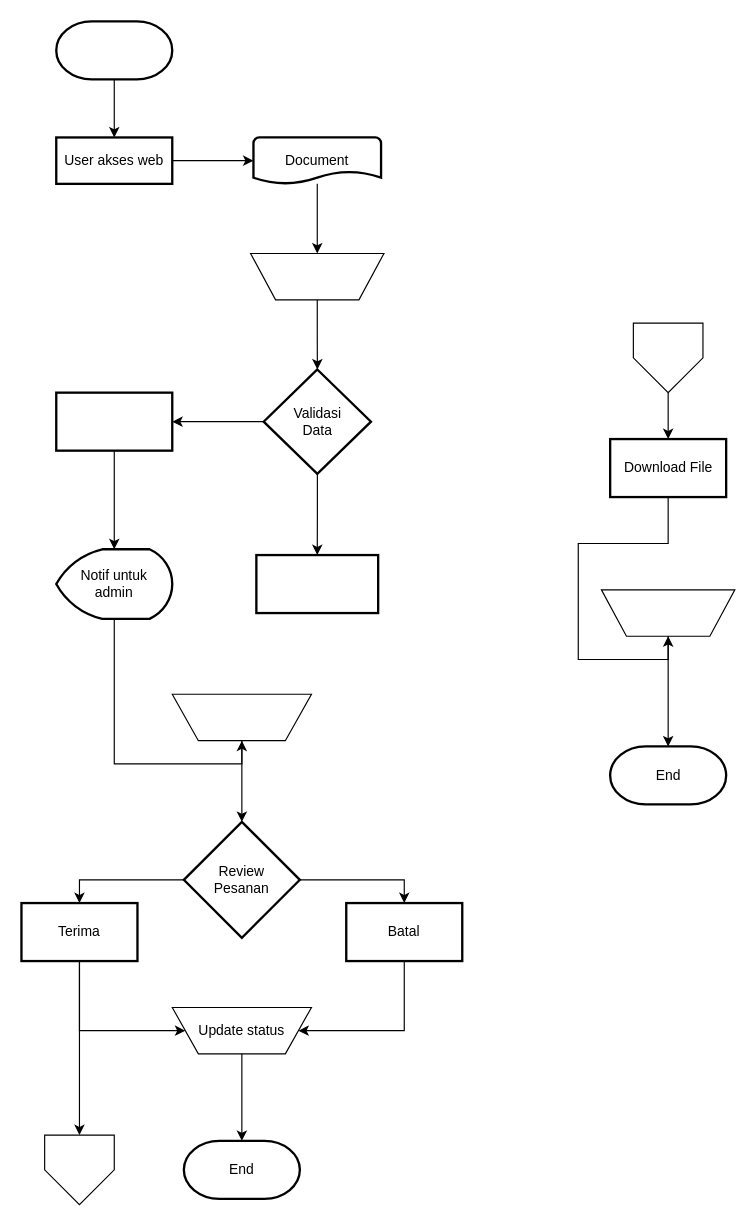
This 755x1225 diagram has some shape labels left out. Here are the shapes that lost their labels. From the top down, the centre of each, then its label:
pixel 114 50: Start
pixel 316 276: Upload oleh User
pixel 114 421: Yes = Masuk DB
pixel 317 583: No = Canceled/Server Problem
pixel 667 612: Pengolahan & Print
pixel 241 717: Admin Login
